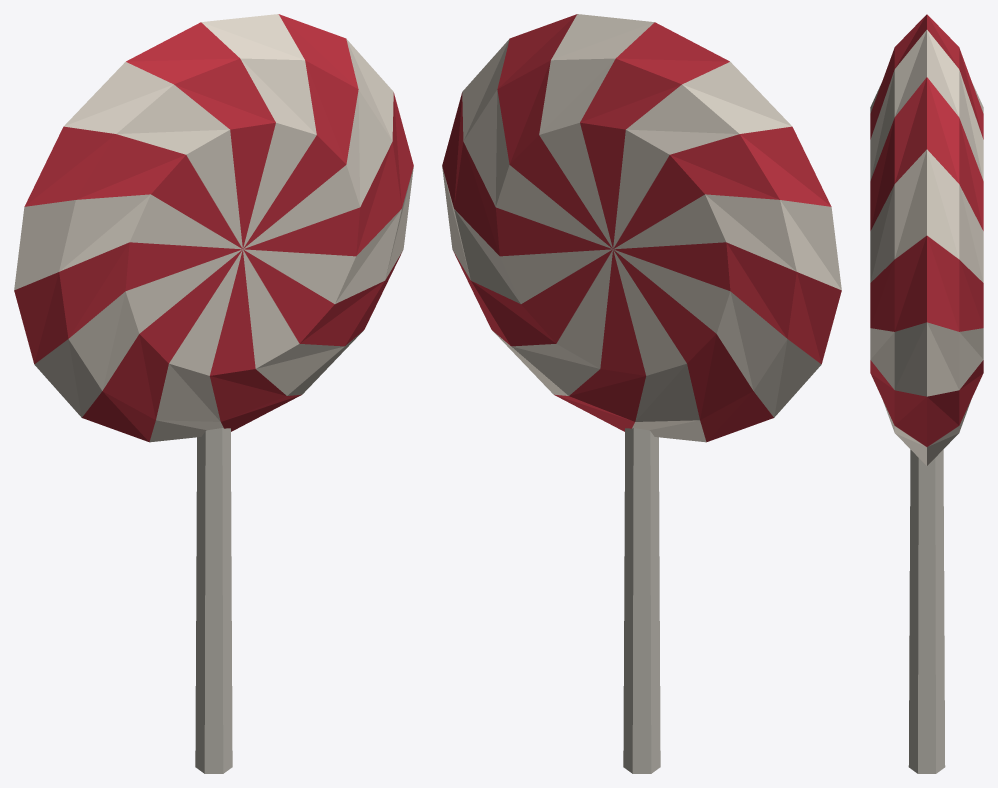
File: lollipop-6b90e0.glb
3 views of the same model, side by side, from view 1: azimuth 30°, elevation 25°; view 2: azimuth 150°, elevation 25°; view 3: azimuth 270°, elevation 25° (orthographic). The views are drawn at different scales.
Bounding box in the file's own units: 0.1118 × 0.1999 × 0.028.
